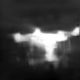plane: (10, 26, 80, 65)
